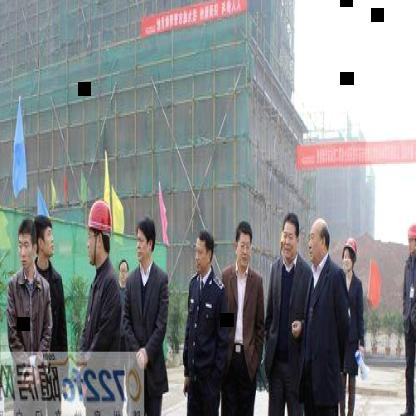head: (134, 213, 156, 269), (309, 214, 332, 266), (278, 210, 300, 264), (35, 210, 55, 268), (193, 226, 216, 276), (15, 216, 34, 276), (233, 220, 253, 270), (117, 255, 131, 291)
helmet: (84, 198, 113, 266), (341, 238, 360, 278), (406, 218, 416, 255)
